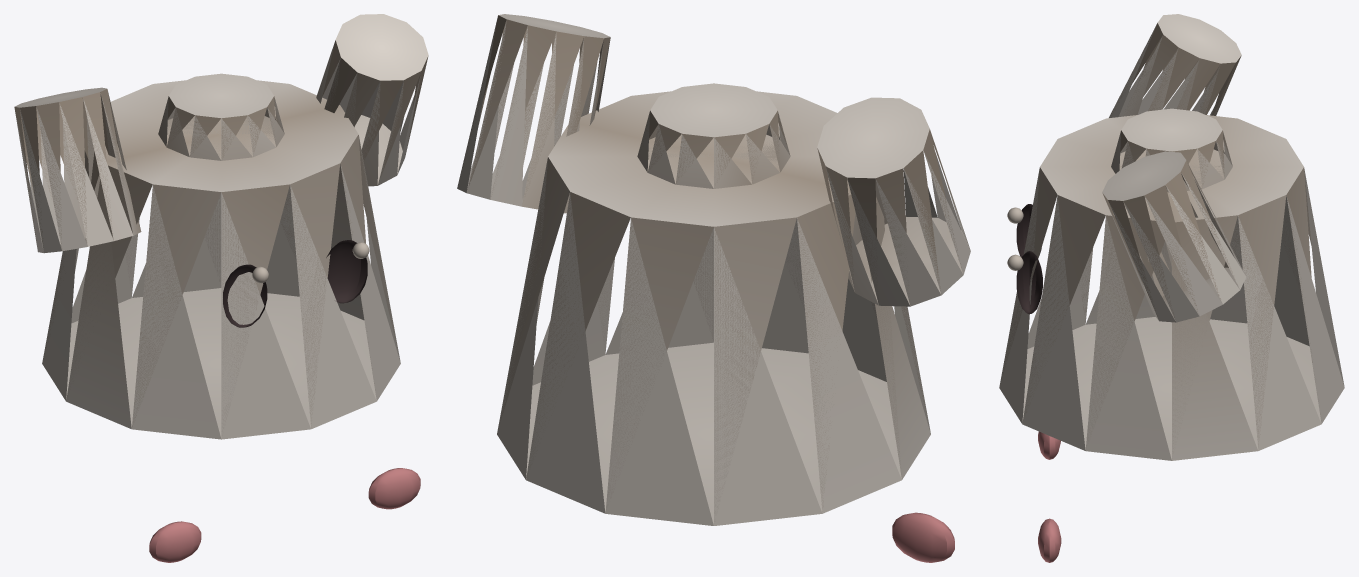
The picture shows the model from 3 angles, left to right: view 1: azimuth 30°, elevation 25°; view 2: azimuth 150°, elevation 25°; view 3: azimuth 270°, elevation 25°; orthographic projection. The views are drawn at different scales.
Visible parts, largest first — view 1: pet_p0f983f50; view 2: pet_p0f983f50; view 3: pet_p0f983f50.
Boxes of the visible parts, box(x1,y1,x2,y2) form: pet_p0f983f50: box(14, 14, 428, 562); pet_p0f983f50: box(457, 14, 970, 562); pet_p0f983f50: box(999, 14, 1344, 562).
Bounding box in the file's own units: 0.42 × 0.4522 × 0.34.
